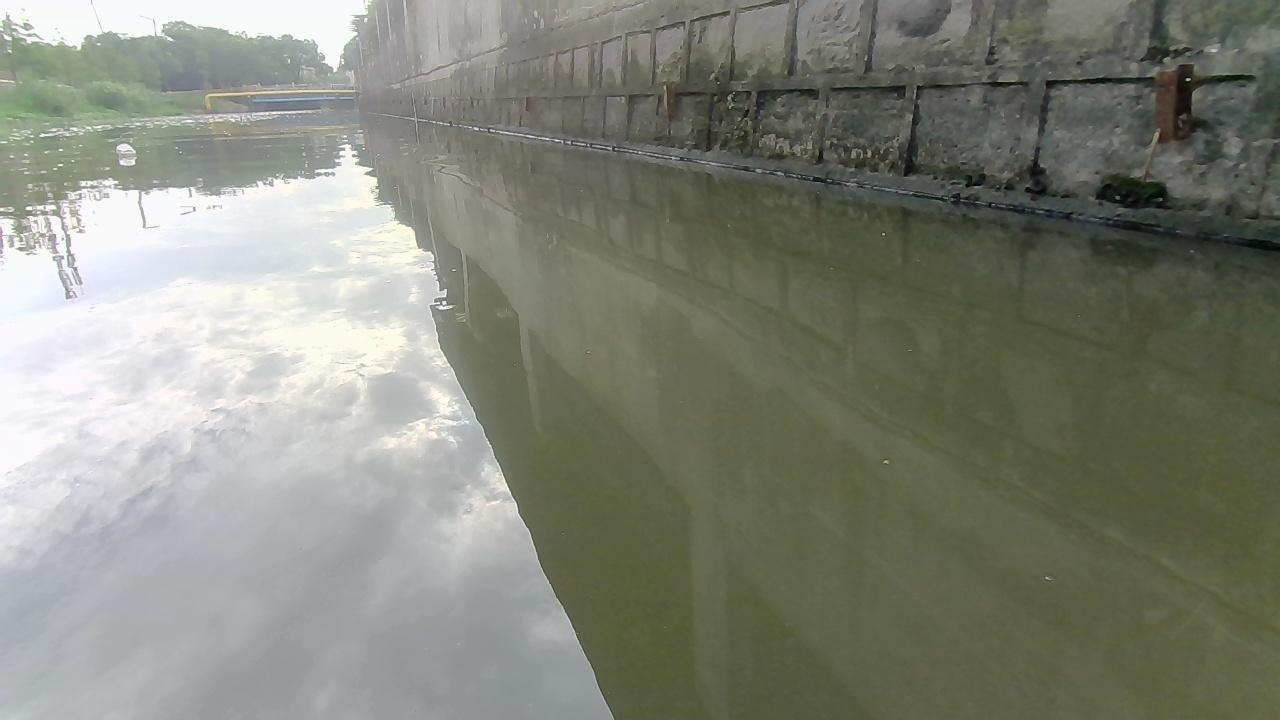bottle: (114, 138, 141, 159)
